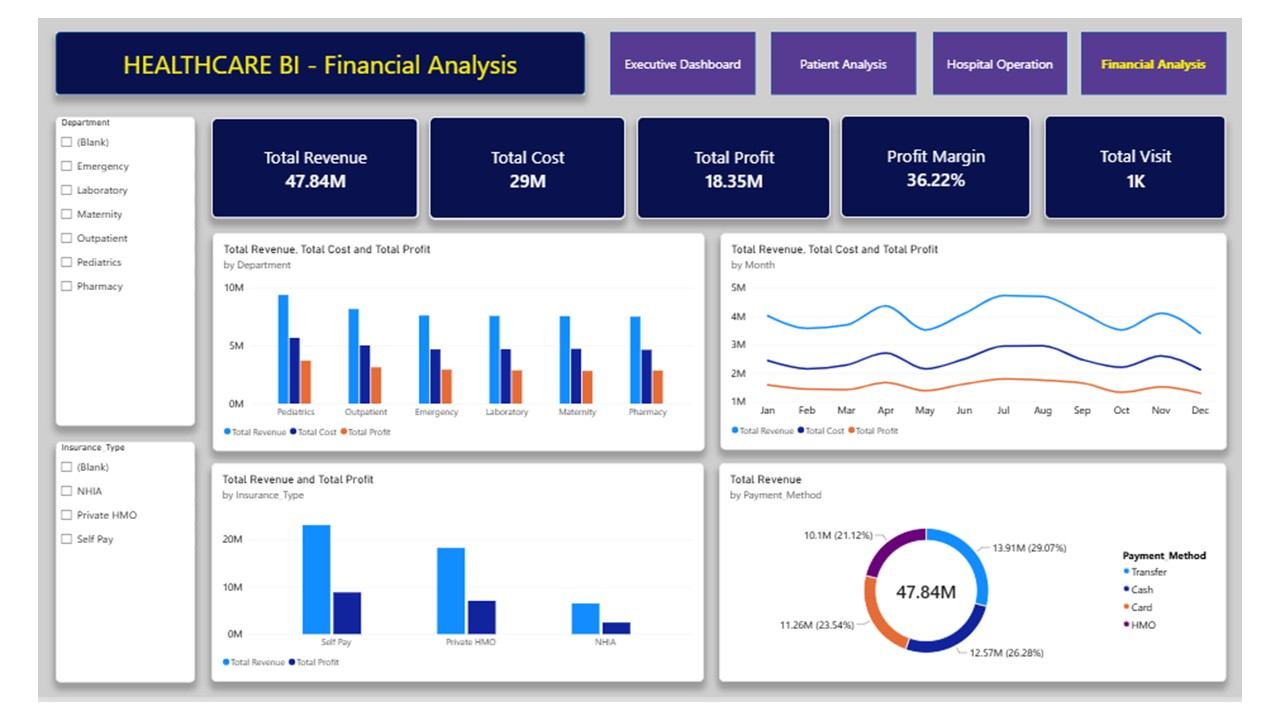

The page's visual inventory and layout, read from the dashboard file:
{"tool":"powerbi","page":{"name":"FA","canvas":[1920,1080],"ordinal":3},"visuals":[{"type":"cardVisual","fields":{"Data":["Patient_Visits.Total Revenue"]},"box":[282.8,164.9,327.9,159.1],"z":0},{"type":"cardVisual","fields":{"Data":["Date_Table.Total Cost"]},"box":[626.4,161,310.3,163],"z":1000},{"type":"cardVisual","fields":{"Data":["Patient_Visits.Total Profit"]},"box":[954,162,306,162],"z":2000},{"type":"cardVisual","fields":{"Data":["Patient_Visits.Profit Margin"]},"box":[1276,160,300,162],"z":3000},{"type":"clusteredColumnChart","fields":{"Category":["Patient_Visits.Department"],"Y":["Patient_Visits.Total Revenue","Date_Table.Total Cost","Patient_Visits.Total Profit"]},"box":[283.3,345,776.7,345],"z":4000},{"type":"lineChart","fields":{"Category":["Patient_Visits.Month"],"Y":["Patient_Visits.Total Revenue","Date_Table.Total Cost","Patient_Visits.Total Profit"]},"box":[1085,345,800,343.3],"z":5000},{"type":"clusteredColumnChart","fields":{"Category":["Patient_Visits.Insurance_Type"],"Y":["Patient_Visits.Total Revenue","Patient_Visits.Total Profit"]},"box":[282.8,710.8,777.6,345.6],"z":6000},{"type":"donutChart","fields":{"Category":["Patient_Visits.Payment_Method"],"Y":["Patient_Visits.Total Revenue"]},"box":[1084.3,710.6,801.4,345.6],"z":7000},{"type":"cardVisual","fields":{"Data":["Patient_Visits.Total Visit"]},"box":[1594.5,159.1,290.6,164.9],"z":8000},{"type":"slicer","fields":{"Values":["Patient_Visits.Insurance_Type"]},"box":[35.3,675.5,219.9,380.9],"z":9000},{"type":"slicer","fields":{"Values":["Patient_Visits.Department"]},"box":[35.3,161,219.9,488.9],"z":10000},{"type":"shape","title":"HEALTHCARE BI","box":[36.7,28.1,835.9,99.4],"z":11000},{"type":"shape","box":[911.5,28.1,229,99.4],"z":12000},{"type":"shape","box":[1166.4,28.1,229,99.4],"z":13000},{"type":"shape","box":[1421.3,28.1,211.7,99.4],"z":14000},{"type":"shape","box":[1656.7,28.1,229,99.4],"z":15000}]}

Visuals, with their boxes in screenshot pixels (x1, y1, x2, y2), scaled from the page's 1920x1080 canvas onto the 1280x720 screenshot:
cardVisual - Patient_Visits.Total Revenue: [left=189, top=110, right=407, bottom=216]
cardVisual - Date_Table.Total Cost: [left=418, top=107, right=624, bottom=216]
cardVisual - Patient_Visits.Total Profit: [left=636, top=108, right=840, bottom=216]
cardVisual - Patient_Visits.Profit Margin: [left=851, top=107, right=1051, bottom=215]
clusteredColumnChart - Patient_Visits.Department x Patient_Visits.Total Revenue: [left=189, top=230, right=707, bottom=460]
lineChart - Patient_Visits.Month x Patient_Visits.Total Revenue: [left=723, top=230, right=1257, bottom=459]
clusteredColumnChart - Patient_Visits.Insurance_Type x Patient_Visits.Total Revenue: [left=189, top=474, right=707, bottom=704]
donutChart - Patient_Visits.Payment_Method x Patient_Visits.Total Revenue: [left=723, top=474, right=1257, bottom=704]
cardVisual - Patient_Visits.Total Visit: [left=1063, top=106, right=1257, bottom=216]
slicer - Patient_Visits.Insurance_Type: [left=24, top=450, right=170, bottom=704]
slicer - Patient_Visits.Department: [left=24, top=107, right=170, bottom=433]
"HEALTHCARE BI" shape: [left=24, top=19, right=582, bottom=85]
shape: [left=608, top=19, right=760, bottom=85]
shape: [left=778, top=19, right=930, bottom=85]
shape: [left=948, top=19, right=1089, bottom=85]
shape: [left=1104, top=19, right=1257, bottom=85]
